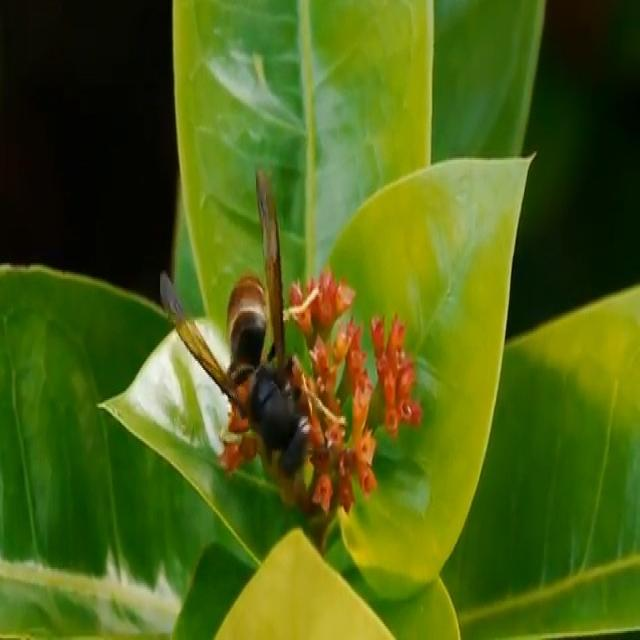Hornets: (158, 168, 316, 490)
